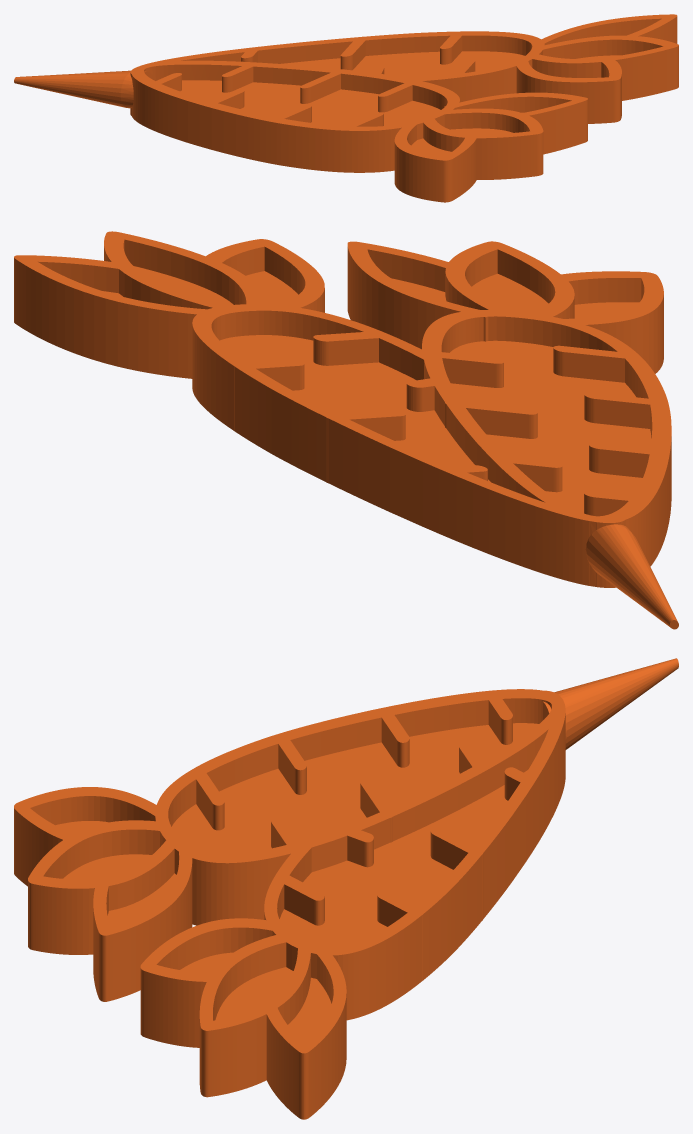
File: carrot_seed.glb
3 renders of one model, top to bottom at view 1: azimuth 30°, elevation 25°; view 2: azimuth 150°, elevation 25°; view 3: azimuth 270°, elevation 25°, orthographic. The views are drawn at different scales.
Visible parts, largest first — view 1: CarrotsSign v1; view 2: CarrotsSign v1; view 3: CarrotsSign v1.
Part boxes in pixels (bbox=[...]): CarrotsSign v1: bbox=[14, 14, 678, 202]; CarrotsSign v1: bbox=[14, 231, 678, 629]; CarrotsSign v1: bbox=[14, 658, 678, 1119].
Bounding box in the file's own units: 0.75 × 0.055 × 0.5.
